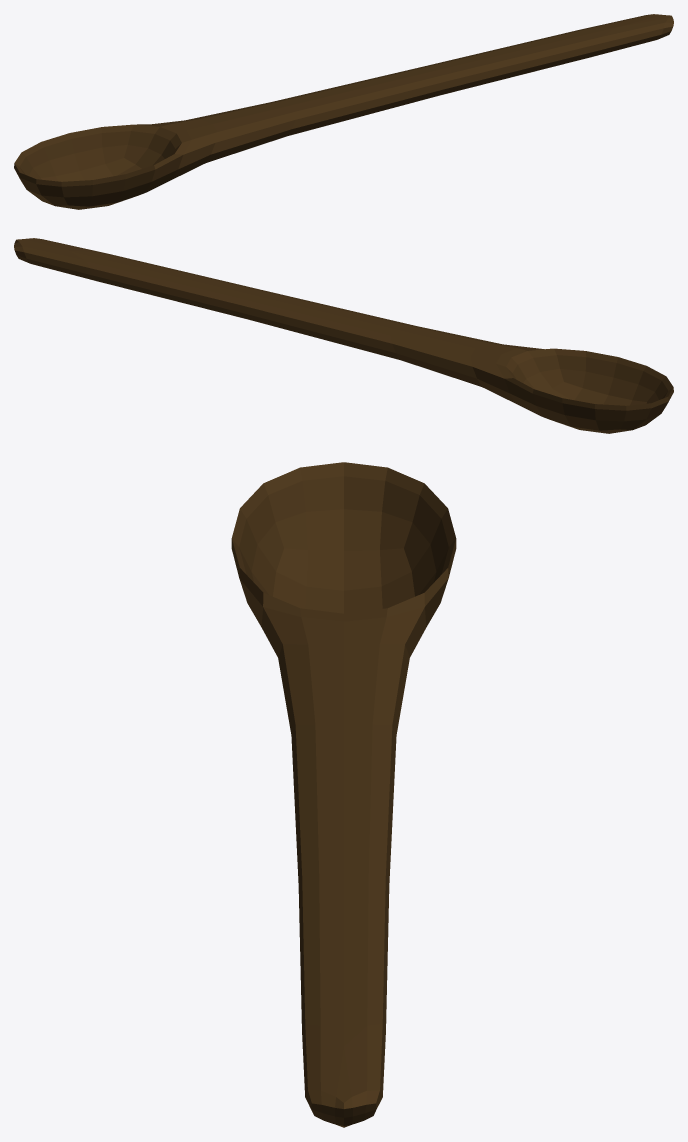
The model's file is WoodenSpoon.fbx.
The picture shows the model from 3 angles, top to bottom: view 1: azimuth 30°, elevation 25°; view 2: azimuth 150°, elevation 25°; view 3: azimuth 270°, elevation 25°; orthographic projection. The views are drawn at different scales.
Parts seen in each view (by area): view 1: Cube.005; view 2: Cube.005; view 3: Cube.005.
Part boxes in pixels (x1,y1,x2,y2): Cube.005: (14, 14, 673, 209); Cube.005: (14, 238, 673, 433); Cube.005: (231, 462, 456, 1127).
Size of the model in its own units: 1450 by 105 by 216.
